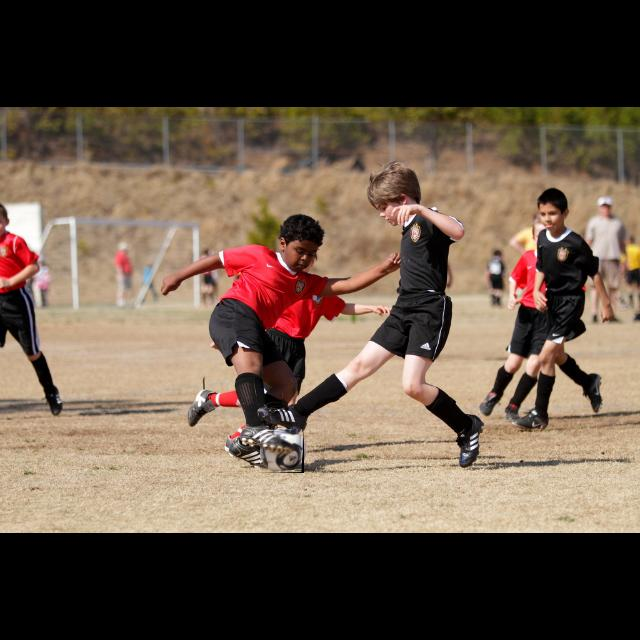Football: (260, 429, 304, 473)
